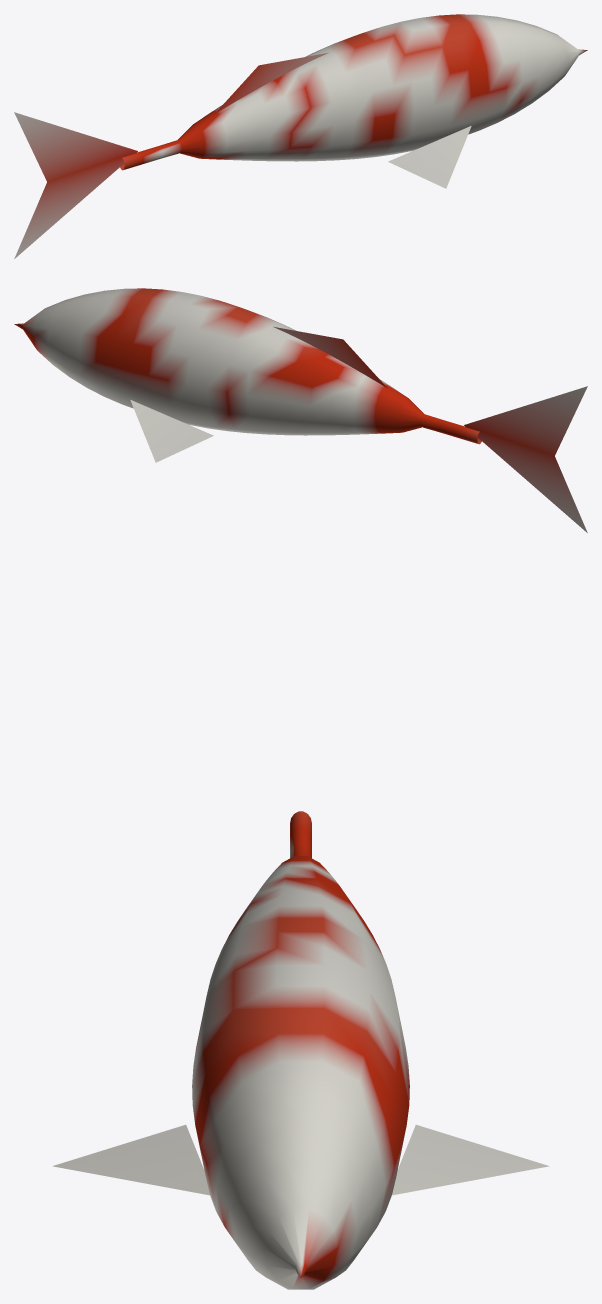
File: koi.glb
3 views of the same model, one above another, from view 1: azimuth 30°, elevation 25°; view 2: azimuth 150°, elevation 25°; view 3: azimuth 270°, elevation 25° (orthographic). The views are drawn at different scales.
Visible parts, largest first — view 1: KoiKohaku; view 2: KoiKohaku; view 3: KoiKohaku.
Boxes of the visible parts, x1=… form: KoiKohaku: x1=14, y1=14, x2=587, y2=258; KoiKohaku: x1=14, y1=288, x2=587, y2=532; KoiKohaku: x1=52, y1=811, x2=549, y2=1289.
Bounding box in the file's own units: 0.692 × 0.17 × 0.26.
